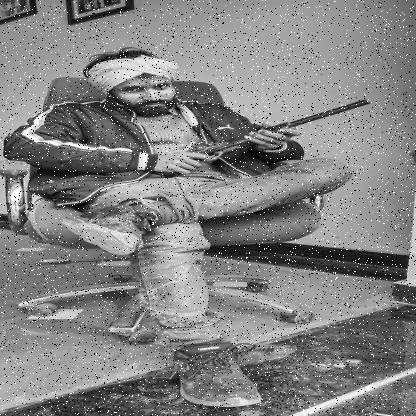rifle: (148, 98, 376, 180)
